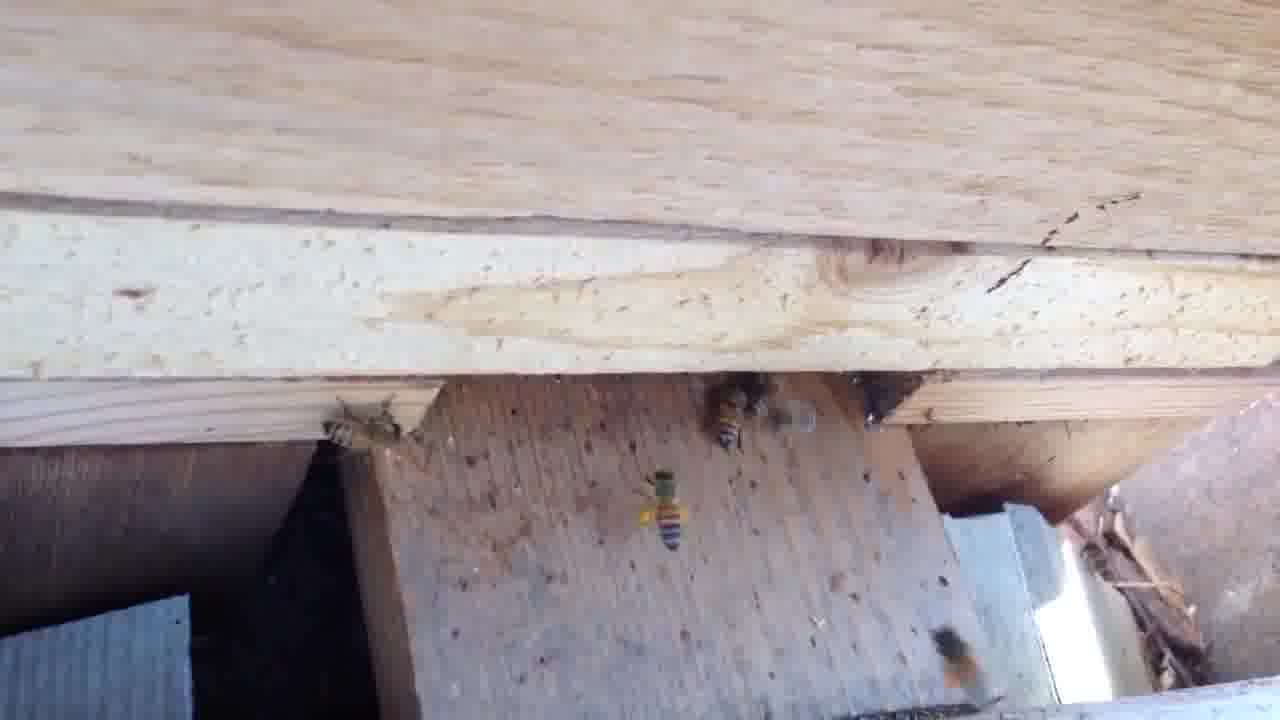pollen: (925, 628, 996, 706), (632, 468, 694, 555)
